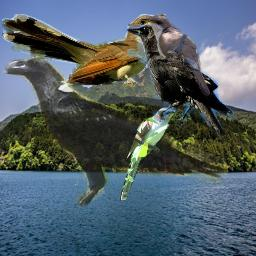Crow: (1, 56, 229, 210), (121, 23, 234, 138)
Cuckoo: (2, 14, 166, 87), (140, 13, 210, 97), (120, 107, 181, 200)
